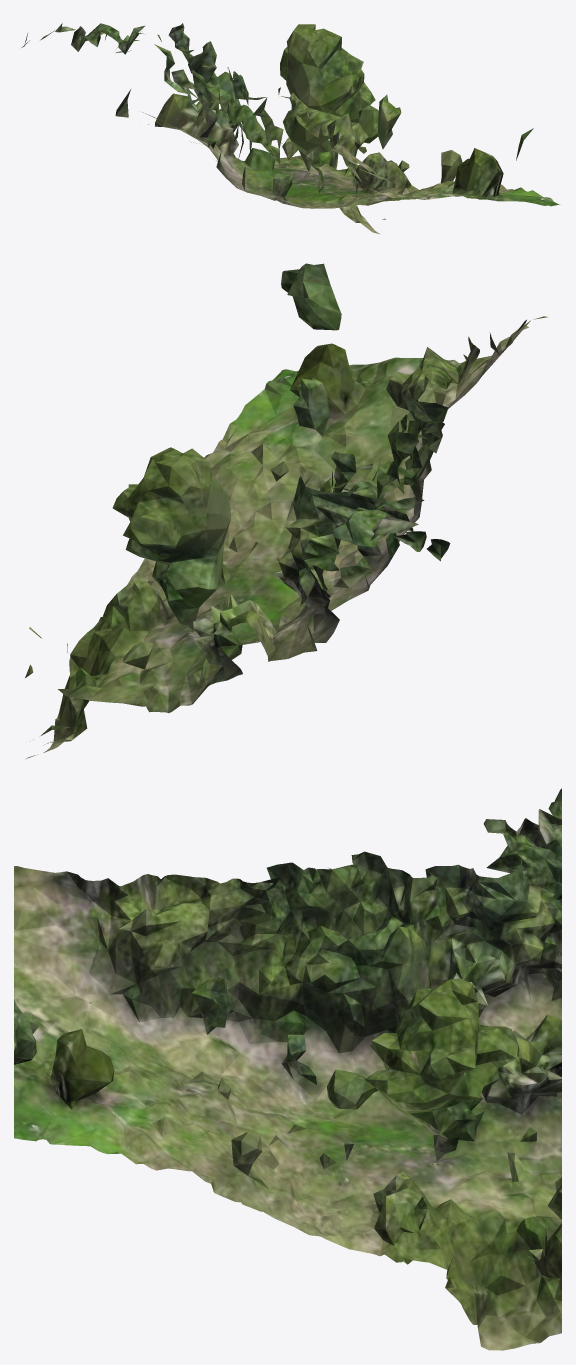
3 views of the same model, one above another, from view 1: azimuth 30°, elevation 25°; view 2: azimuth 150°, elevation 25°; view 3: azimuth 270°, elevation 25° (orthographic). The views are drawn at different scales.
Size of the model in its own units: 48.93 by 36.32 by 52.22.
Materials: 4 (4 with a texture image).
